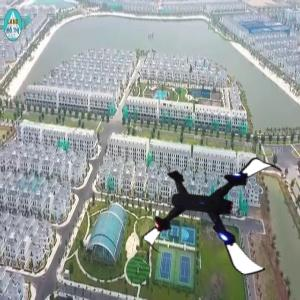drone: (153, 141, 285, 273)
